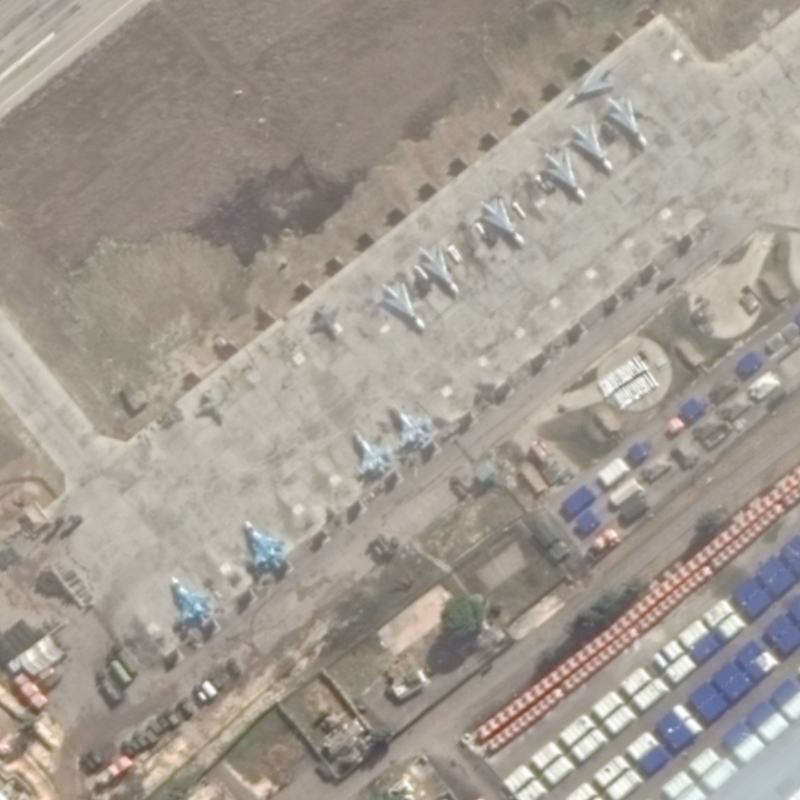A1: (349, 429, 392, 477), (390, 404, 433, 449)
A19: (241, 515, 288, 571), (166, 573, 213, 625)
A20: (476, 194, 529, 251), (538, 146, 589, 203), (377, 278, 427, 334), (568, 119, 619, 172), (413, 243, 462, 297), (559, 60, 616, 106), (603, 95, 651, 149)
